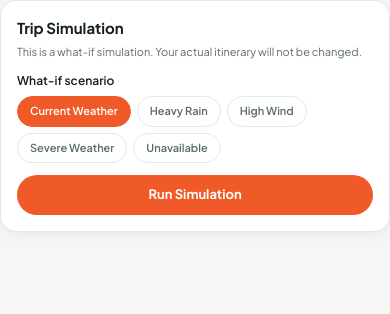
Test: SimulationCard › shows service not found message for 404 Not Found
Click the button "Run Simulation" at (195, 195), box [17, 175, 373, 214]
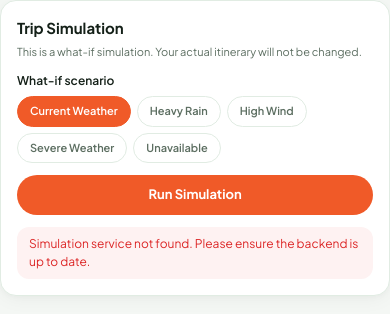
Check: the text "Simulation service not found. Please ensure the backend is up to date." is shown, box [17, 226, 373, 278]
